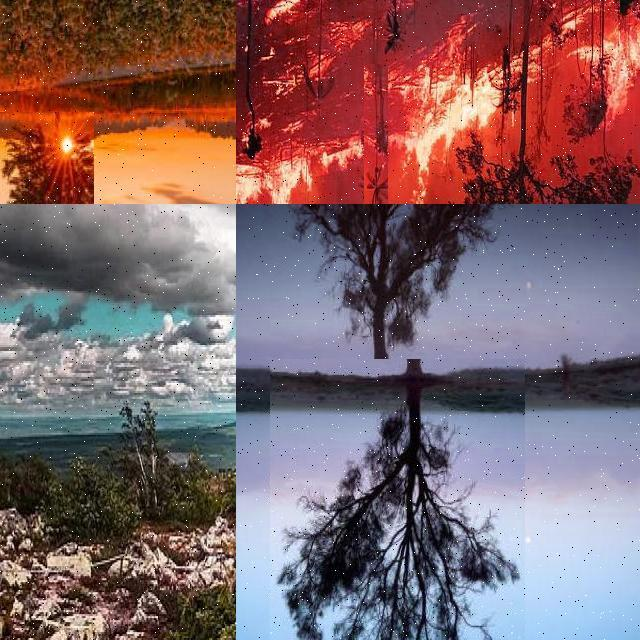tree: (270, 359, 525, 640), (442, 0, 600, 204), (580, 0, 632, 204), (0, 112, 94, 204), (364, 64, 388, 204), (382, 0, 406, 76), (586, 0, 630, 36), (620, 0, 640, 60)
